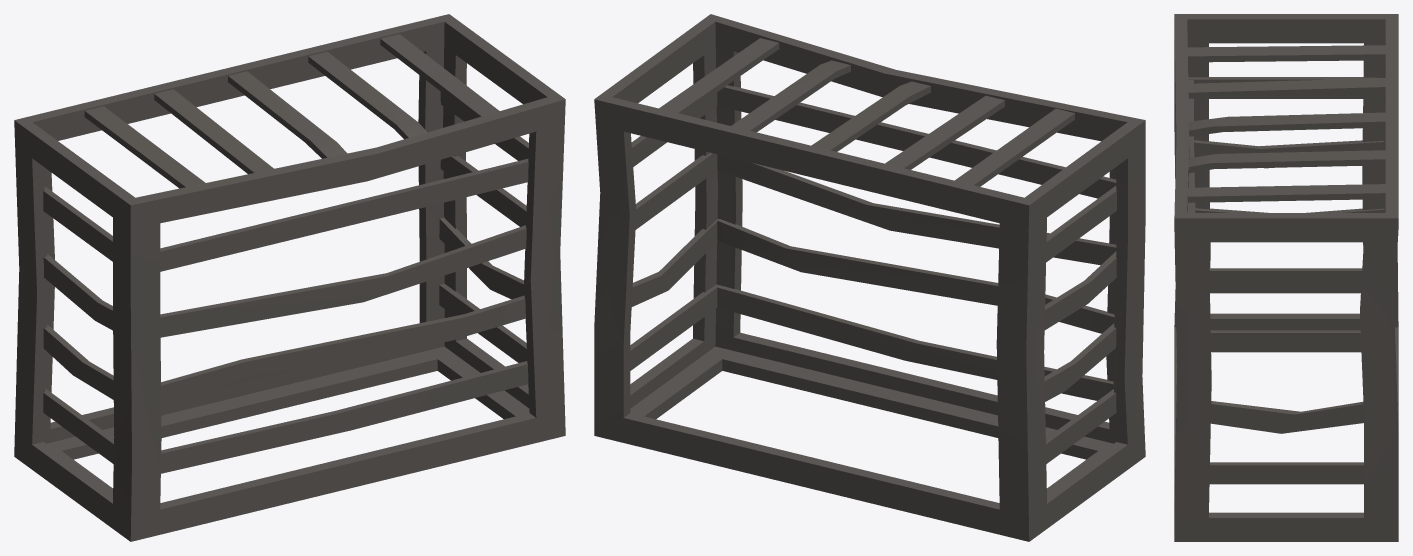
File: SM_Prop_Airconditioner_Cage_01.glb
The picture shows the model from 3 angles, left to right: view 1: azimuth 30°, elevation 25°; view 2: azimuth 150°, elevation 25°; view 3: azimuth 270°, elevation 25°; orthographic projection. The views are drawn at different scales.
Visible parts, largest first — view 1: SM_Prop_Airconditioner_Cage_01; view 2: SM_Prop_Airconditioner_Cage_01; view 3: SM_Prop_Airconditioner_Cage_01.
Boxes of the visible parts, x1,y1,x2,y2 form: SM_Prop_Airconditioner_Cage_01: (14,14,565,541); SM_Prop_Airconditioner_Cage_01: (594,14,1145,541); SM_Prop_Airconditioner_Cage_01: (1174,14,1398,541).
Bounding box in the file's own units: 1.17 × 0.8617 × 0.5406.
1 material, 1 textured.
